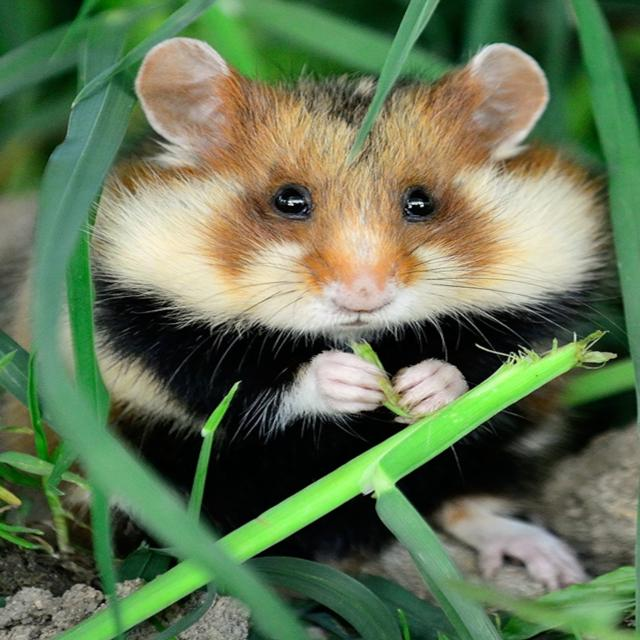hamster: (90, 91, 578, 538)
